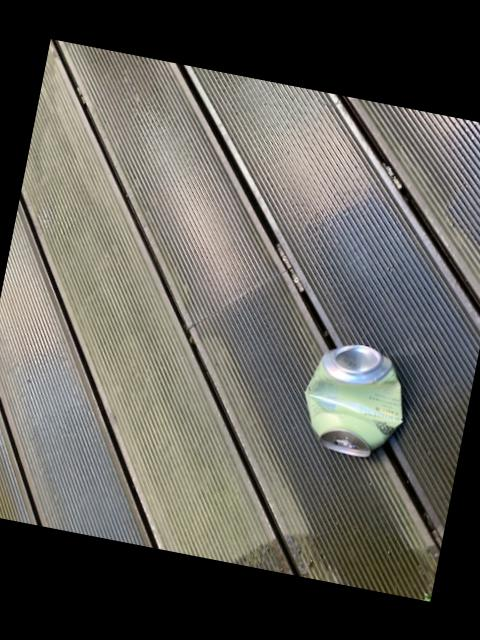metal: (302, 346, 399, 458)
